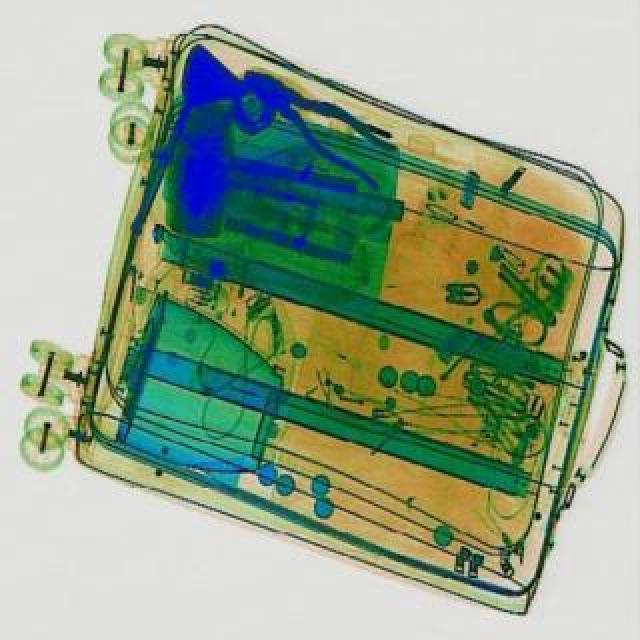wrench: (226, 48, 408, 194)
